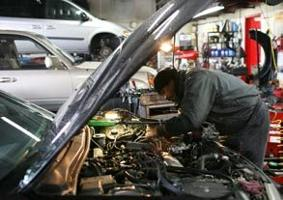person: (145, 68, 271, 173)
